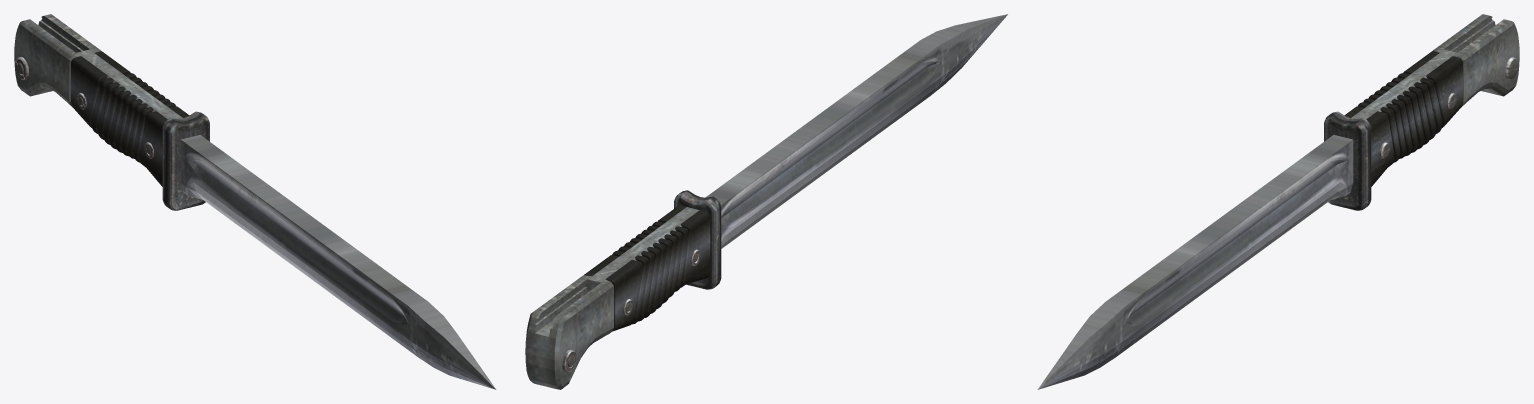
File: Knife.fbx
3 views of the same model, side by side, from view 1: azimuth 30°, elevation 25°; view 2: azimuth 150°, elevation 25°; view 3: azimuth 330°, elevation 25° (orthographic).
Parts seen in each view (by area): view 1: K98_Bayonet2; view 2: K98_Bayonet2; view 3: K98_Bayonet2.
Boxes of the visible parts, left/top/right/bottom form: K98_Bayonet2: left=14, top=14, right=496, bottom=389; K98_Bayonet2: left=525, top=14, right=1007, bottom=389; K98_Bayonet2: left=1037, top=14, right=1519, bottom=389.
Bounding box in the file's own units: 0.1351 × 0.2697 × 2.55.
